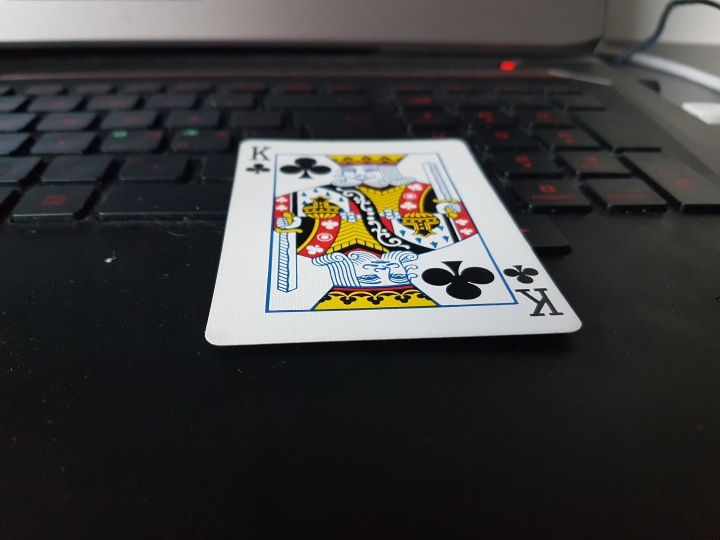king: (201, 137, 582, 352)
